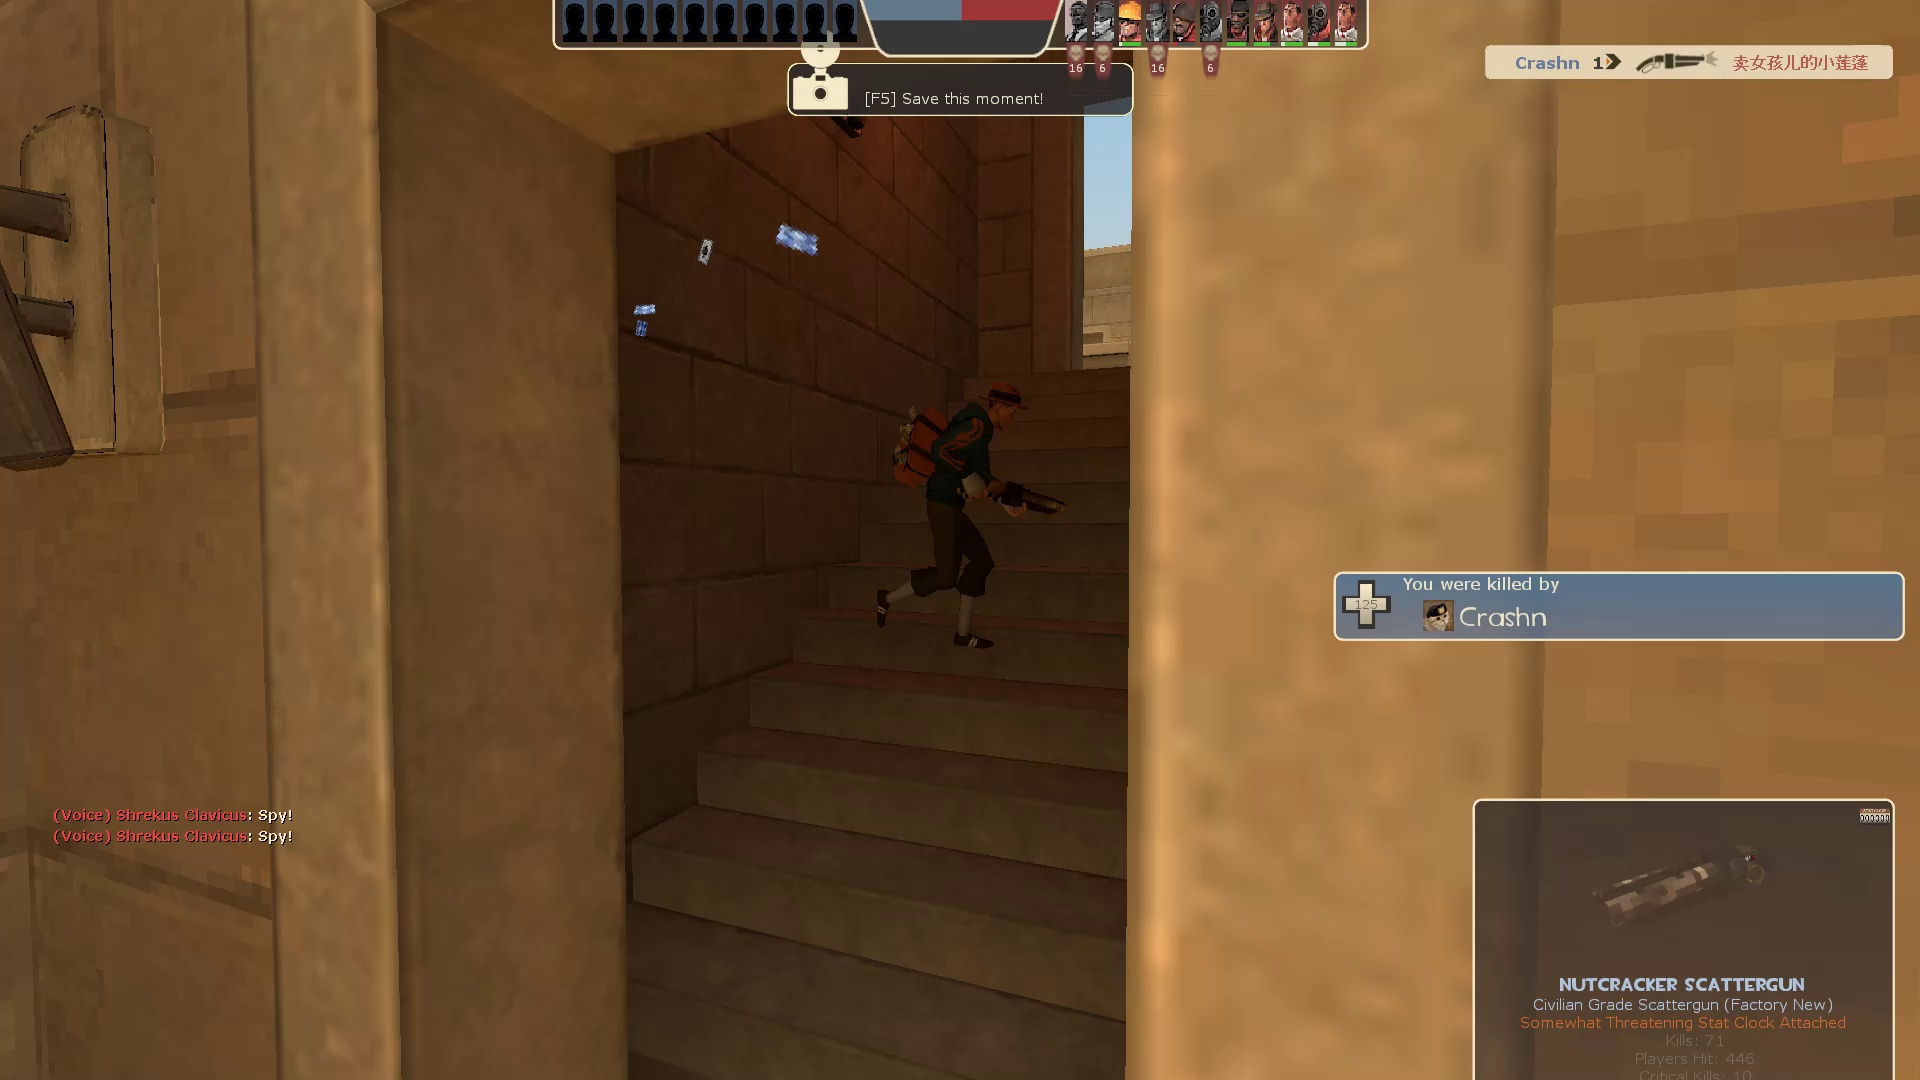blu_scout: (866, 373, 1067, 659)
